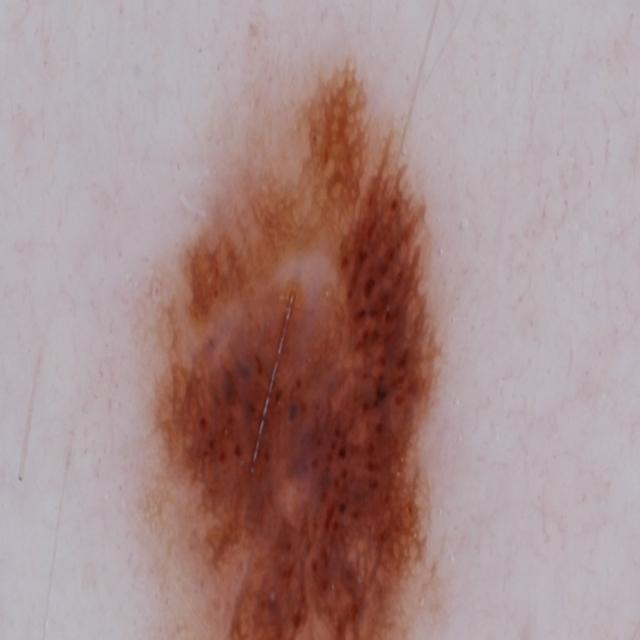Melanoma: (117, 47, 602, 640)
